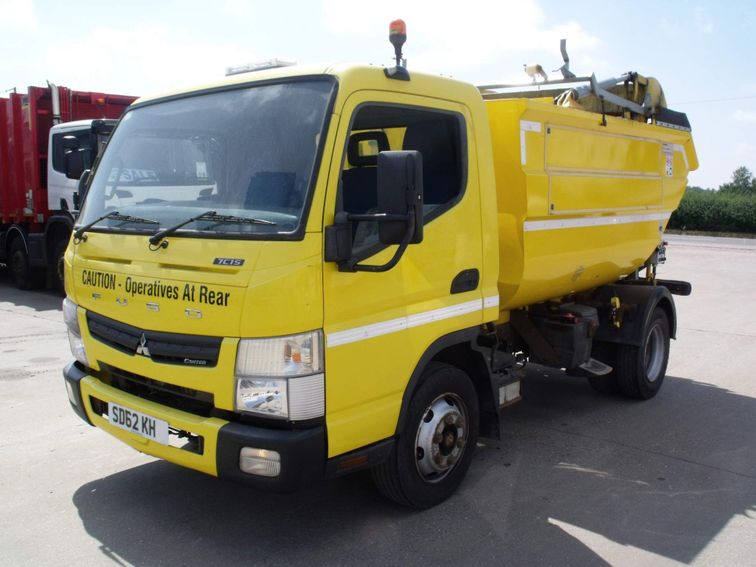Semi: (63, 19, 699, 510)
